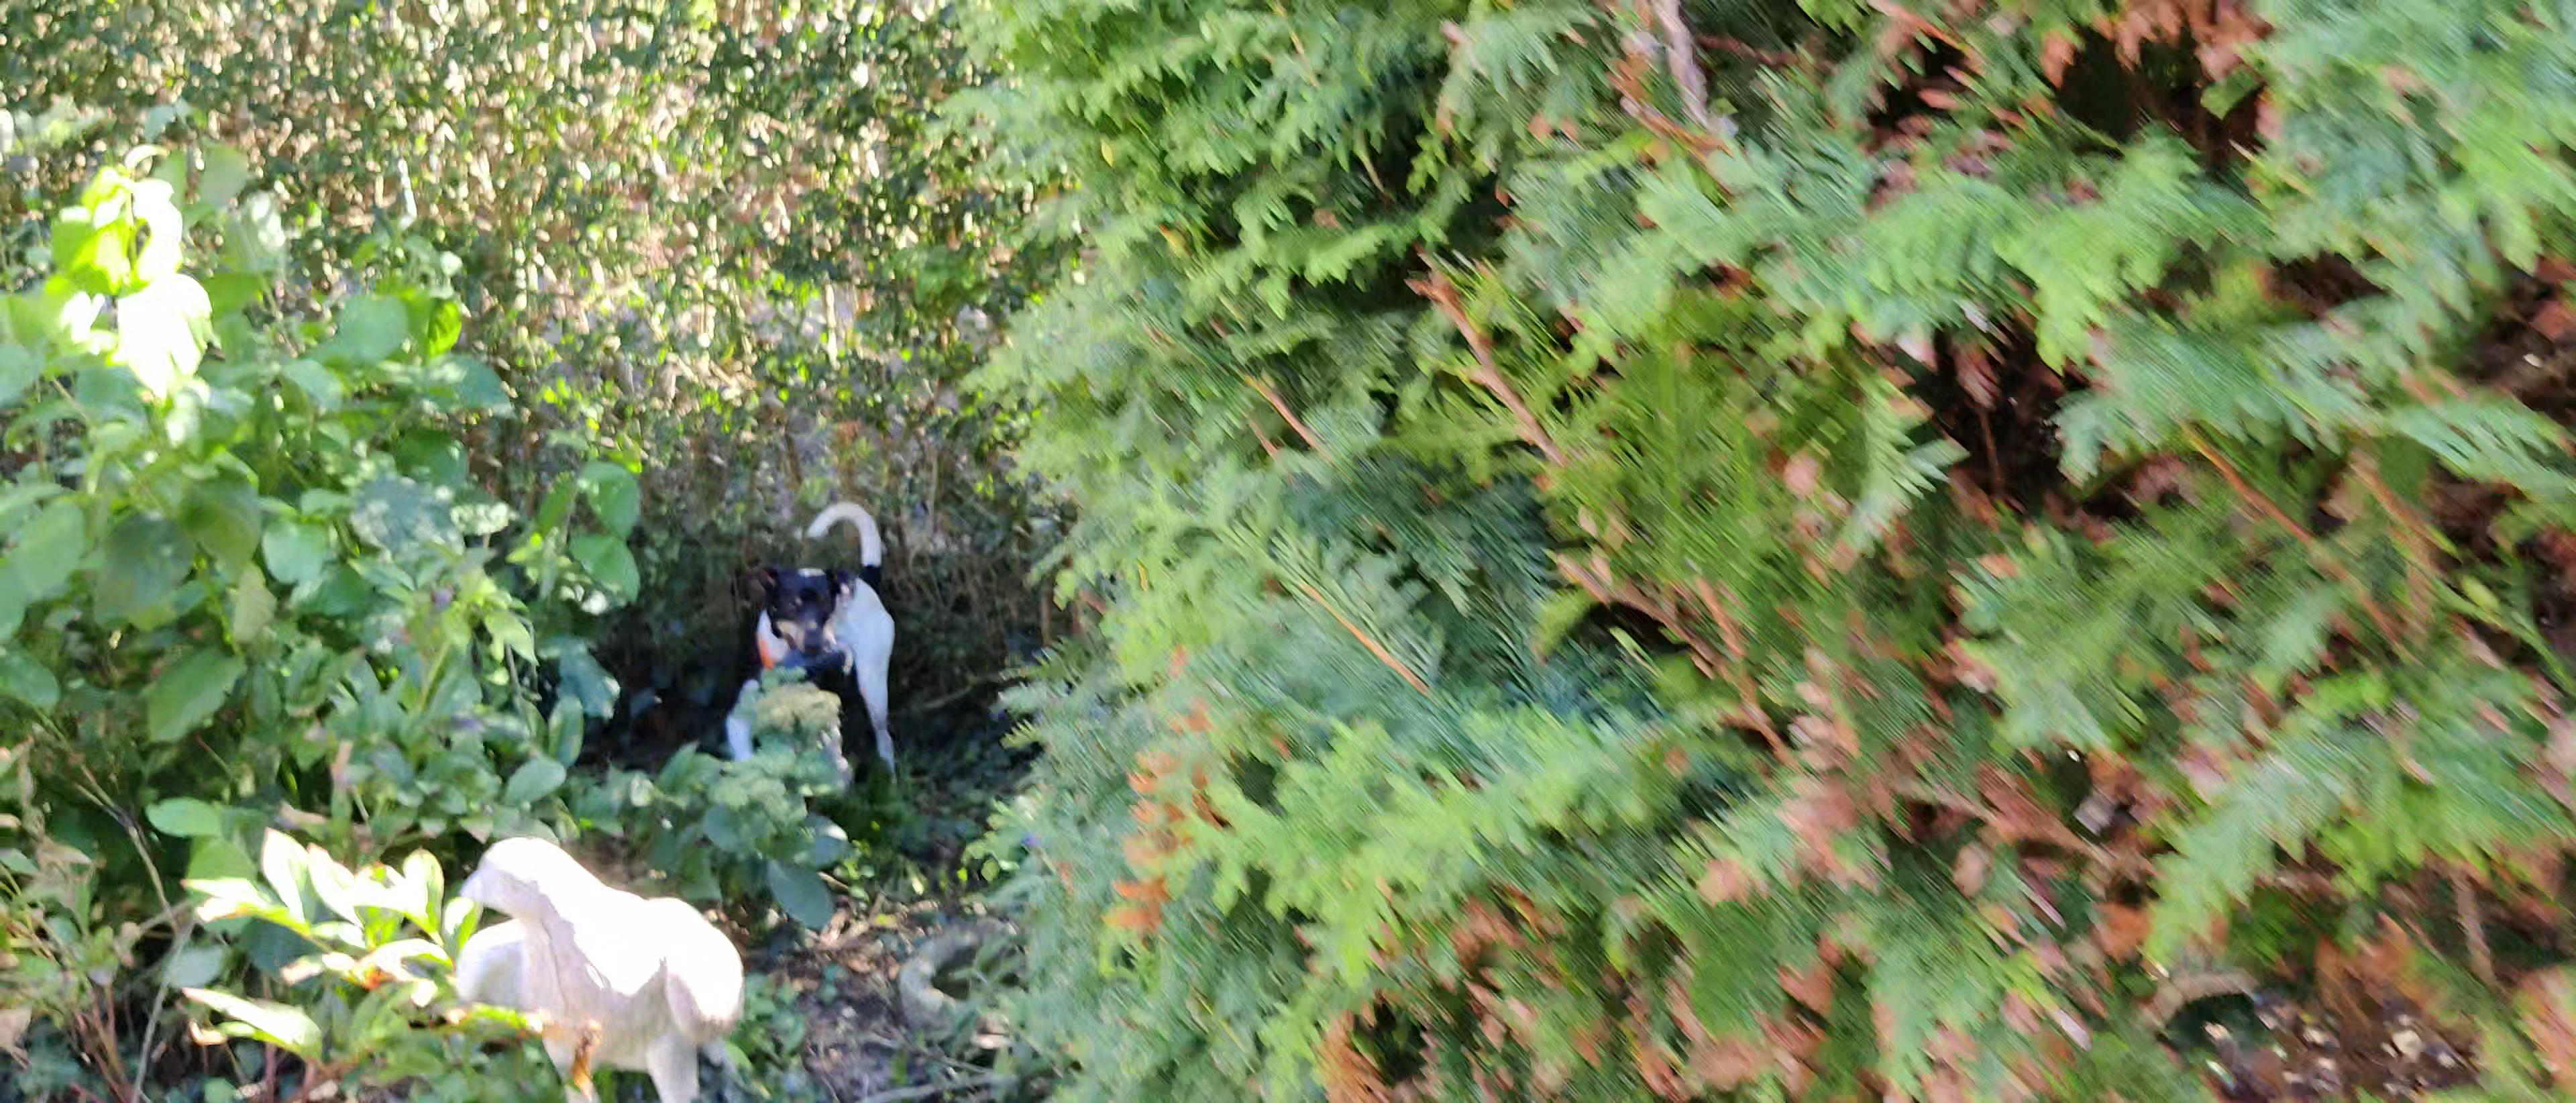Dog: (718, 493, 912, 786)
